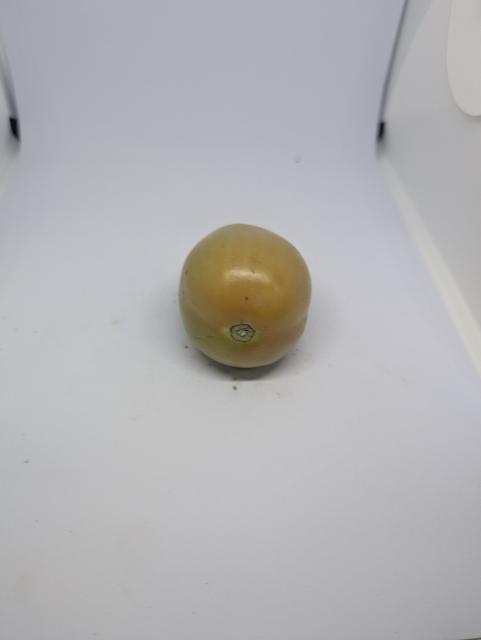breaker: (168, 214, 324, 377)
